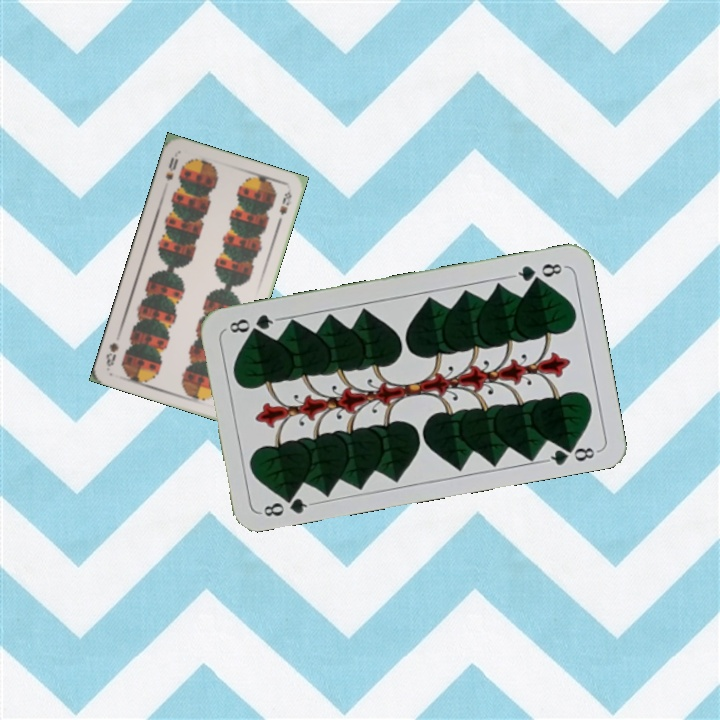G8: (260, 489, 316, 520), (509, 259, 568, 285)
S8: (161, 153, 181, 183)
